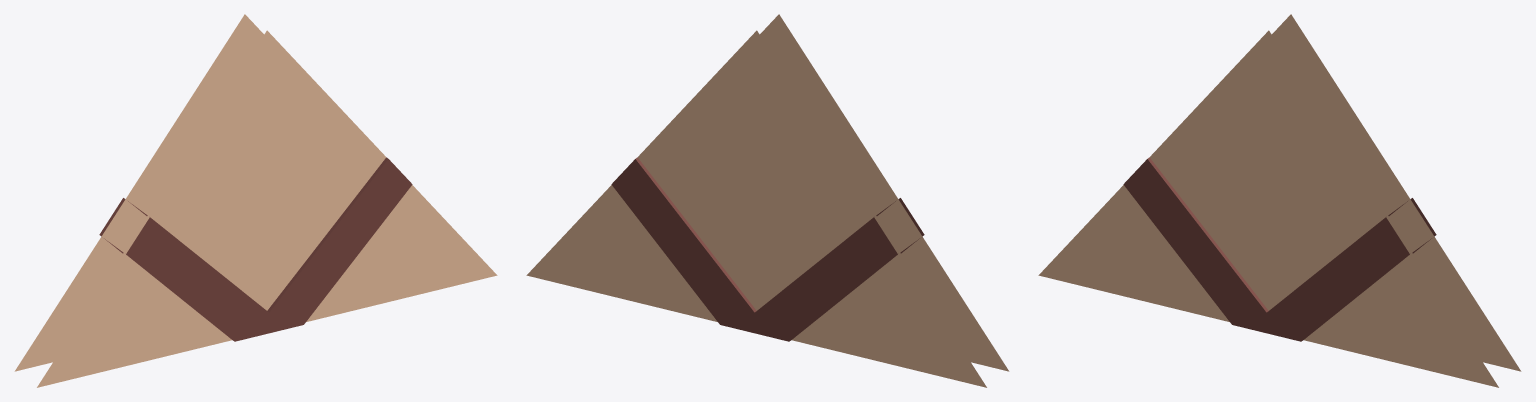
File: WallAngle_Top_1.fbx
3 views of the same model, side by side, from view 1: azimuth 30°, elevation 25°; view 2: azimuth 150°, elevation 25°; view 3: azimuth 330°, elevation 25° (orthographic).
Parts seen in each view (by area): view 1: WallAngle_Top_1; view 2: WallAngle_Top_1; view 3: WallAngle_Top_1.
Boxes of the visible parts, x1=… form: WallAngle_Top_1: x1=14, y1=14, x2=497, y2=387; WallAngle_Top_1: x1=526, y1=14, x2=1009, y2=387; WallAngle_Top_1: x1=1038, y1=14, x2=1521, y2=387.
Bounding box in the file's own units: 2.4 × 0.24 × 1.5.
